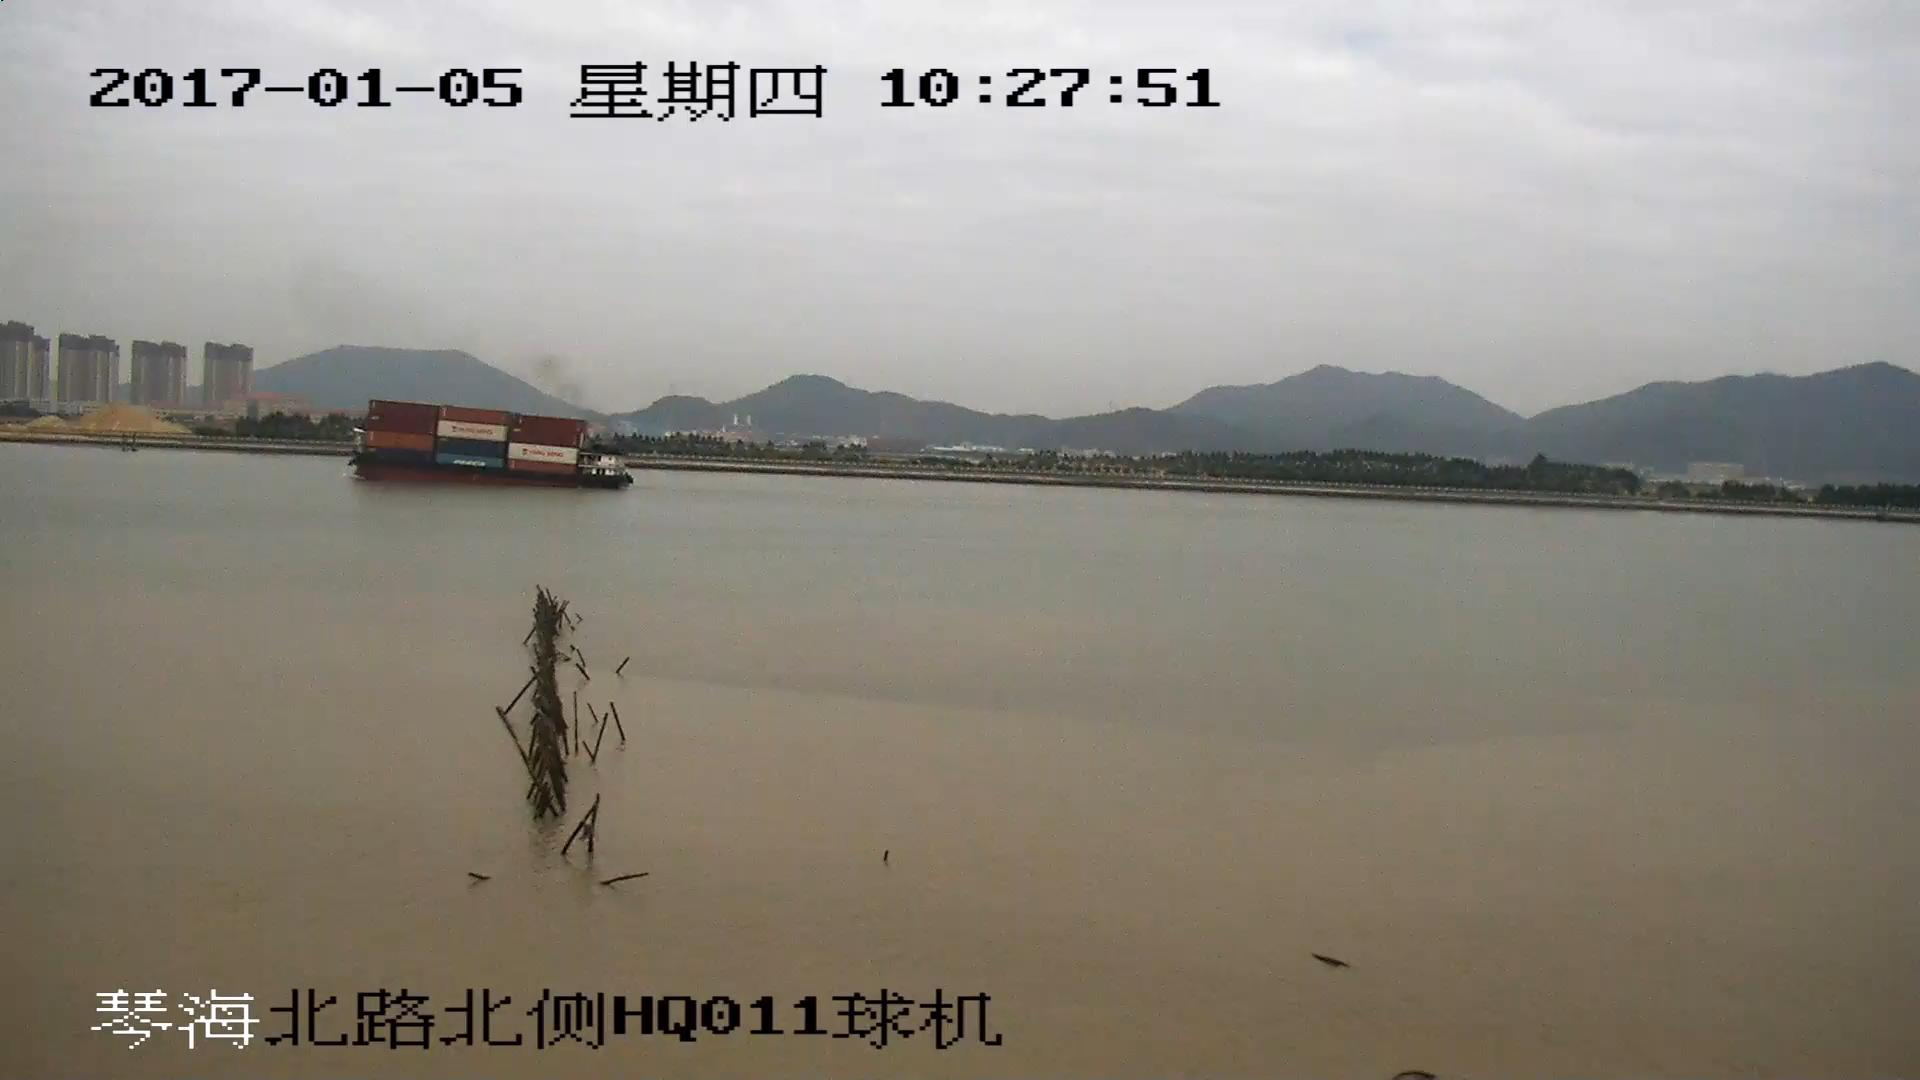Ship: (345, 404, 628, 488)
